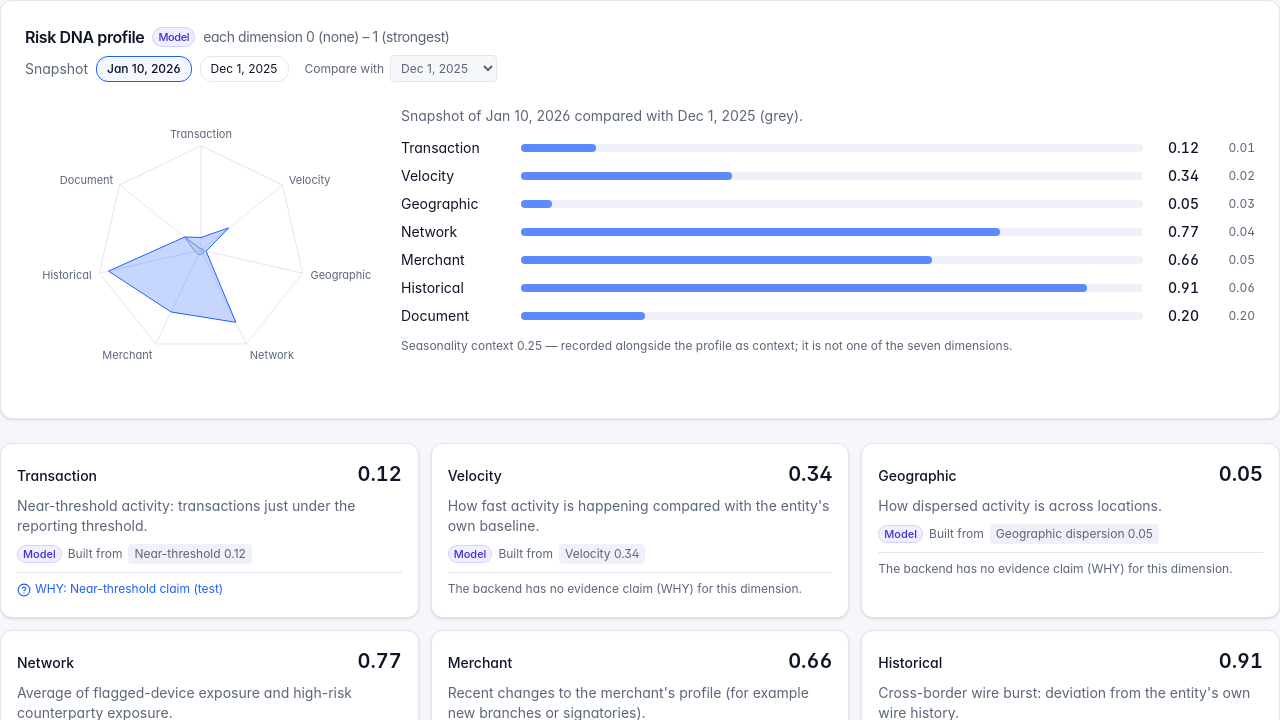
it: Risk DNA profile › switches snapshots without refetching
Click the button "Dec 1, 2025" at (244, 68), box [200,56,288,82]
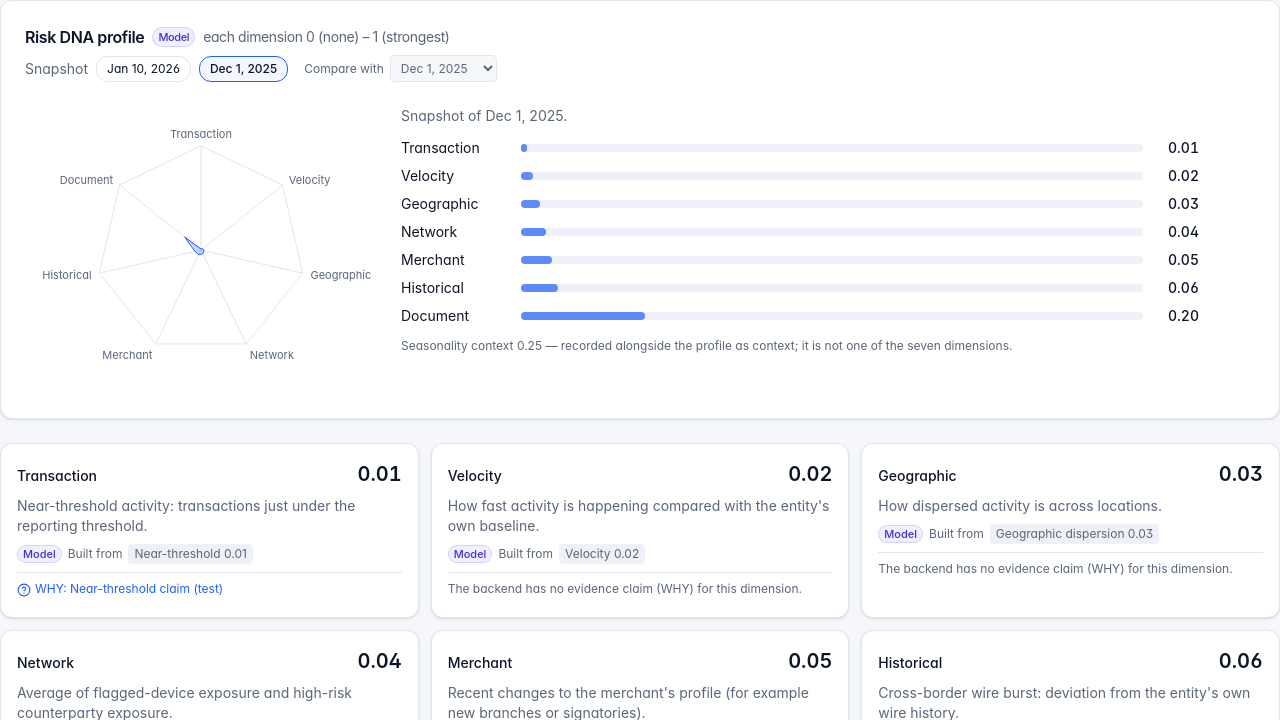
Expected: the list item with test id "dna-row-historical" reads "Historical 0.06", [401,278,1255,298]
